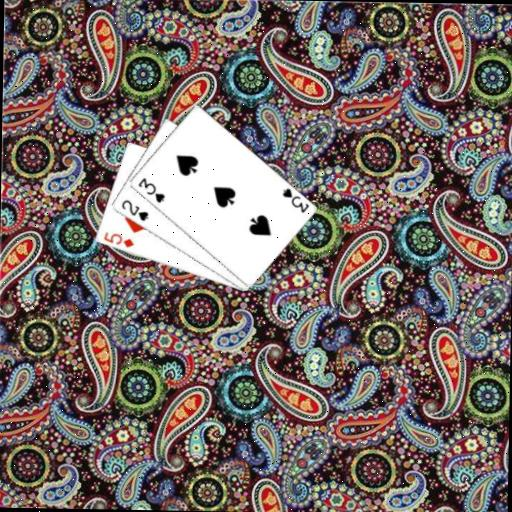2S: (118, 197, 150, 223)
3S: (135, 174, 167, 205), (278, 185, 311, 215)
5D: (101, 229, 136, 250)
